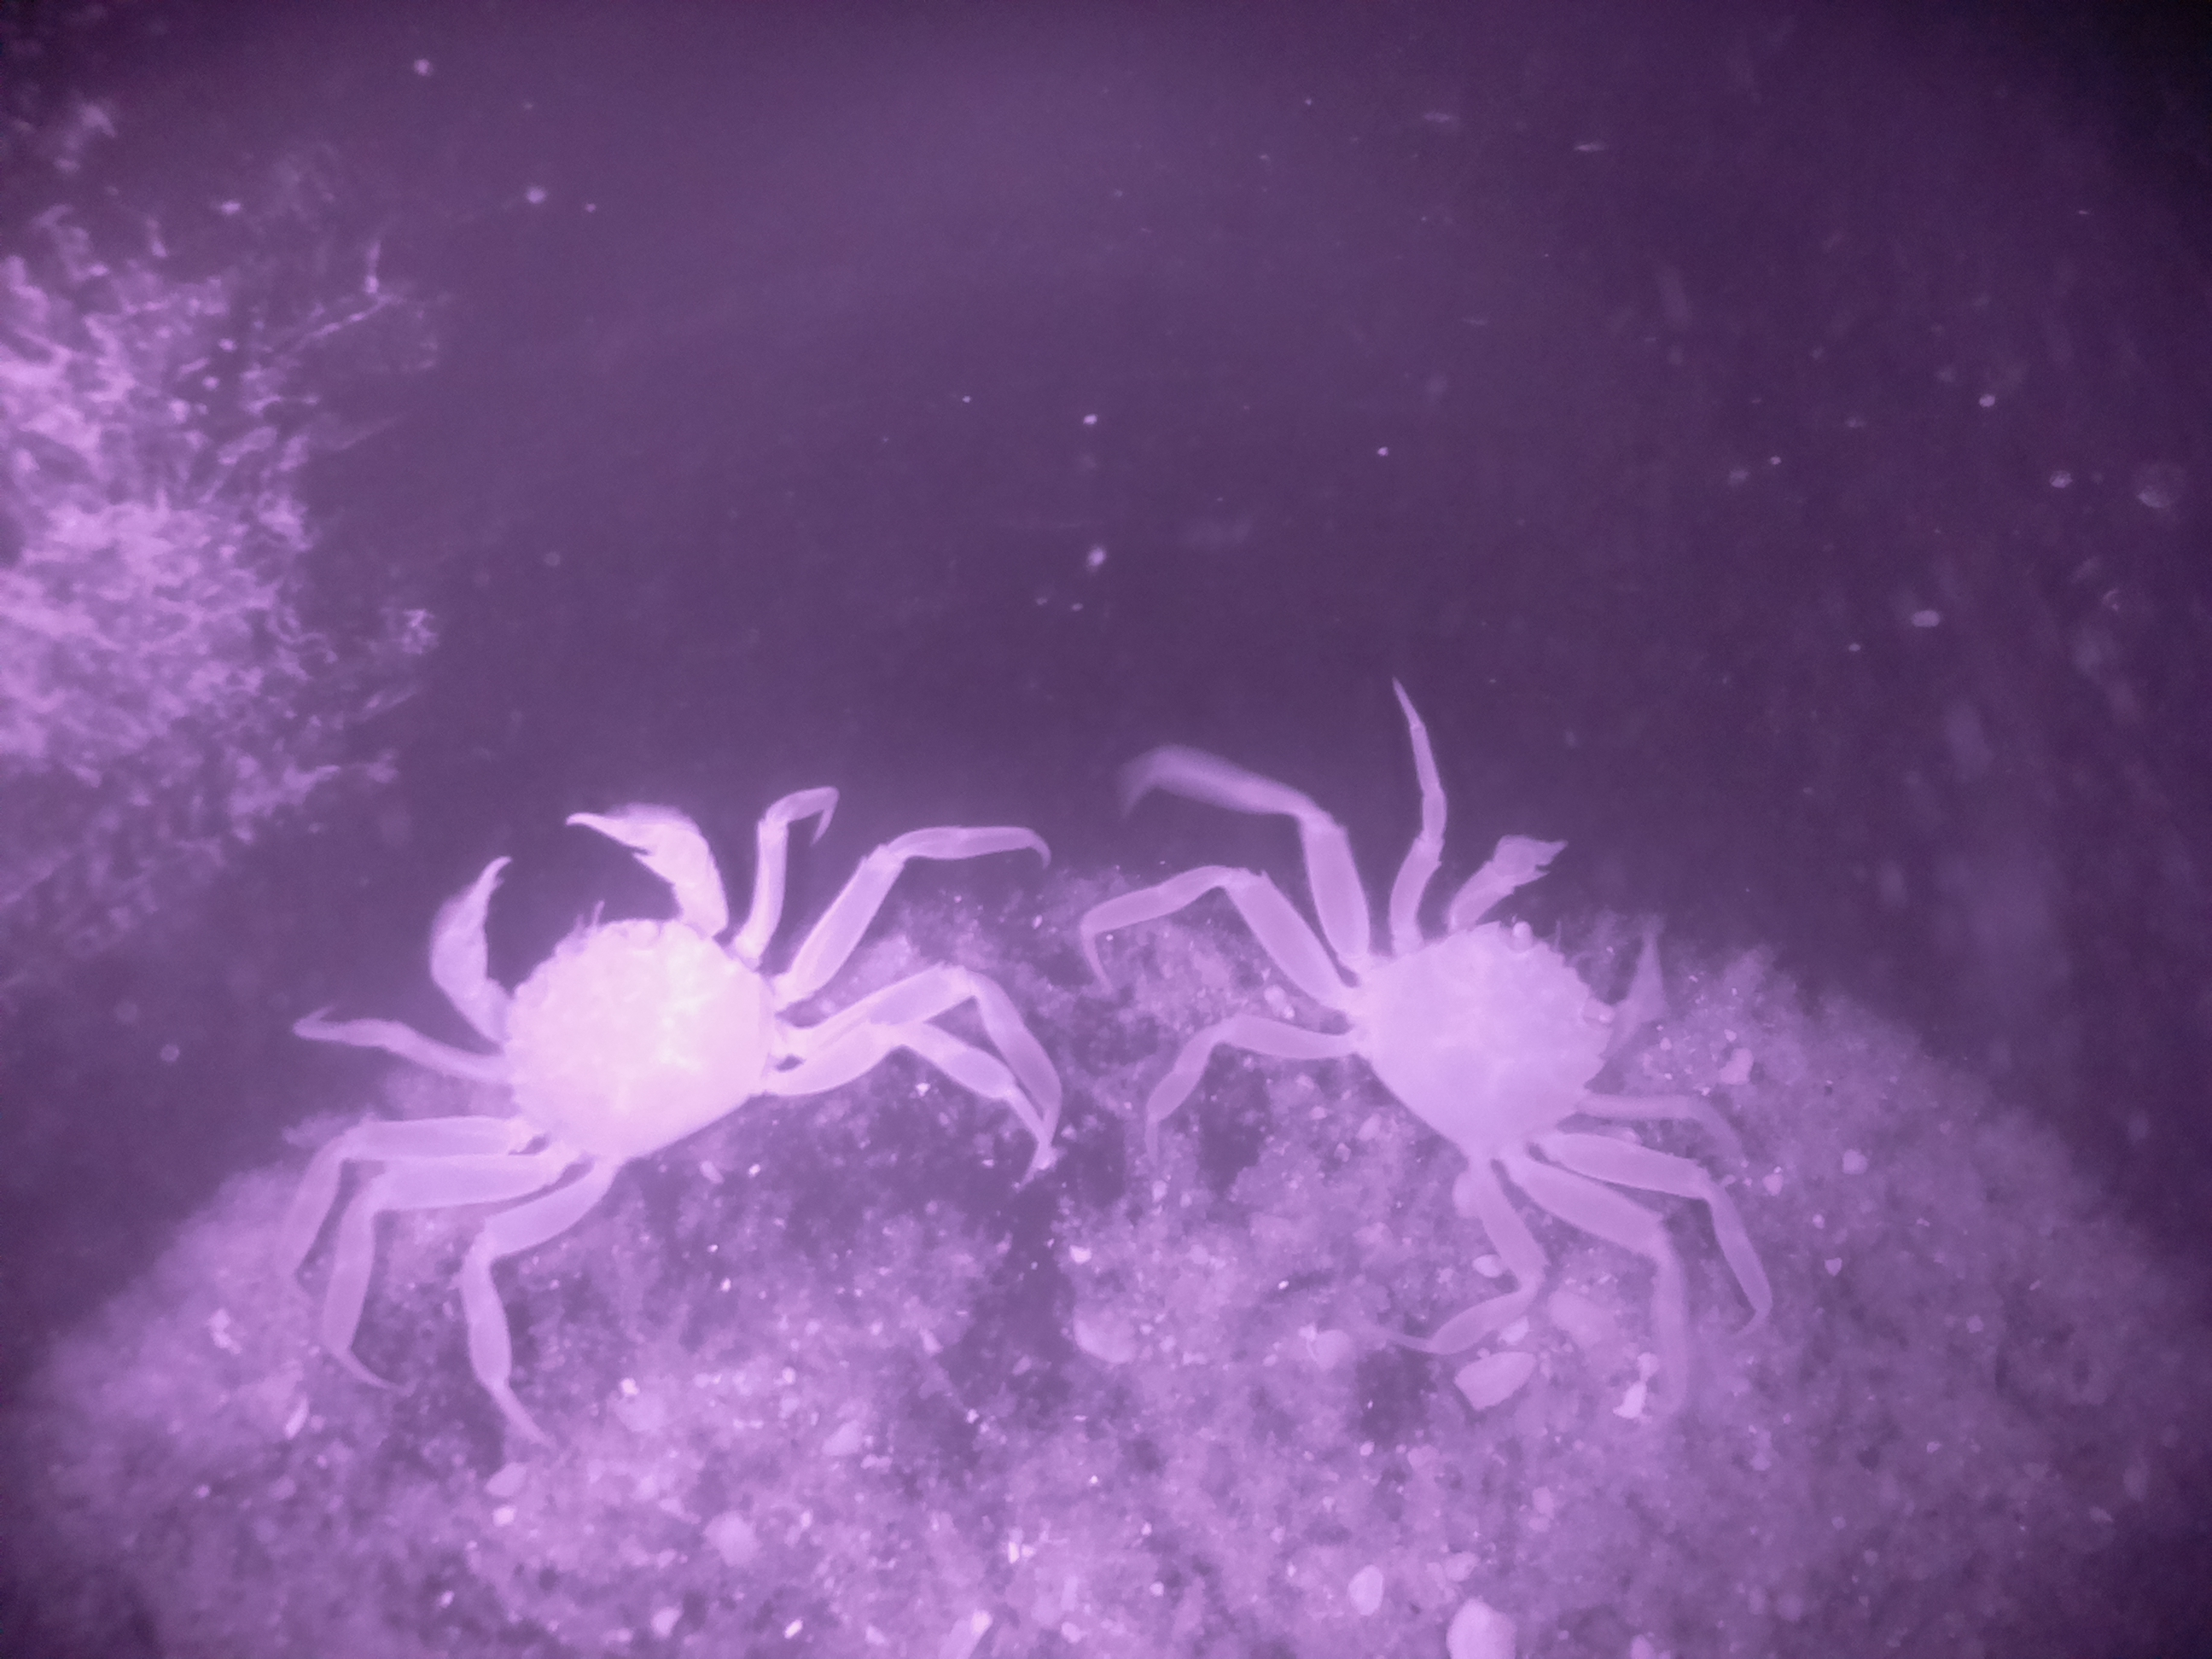Crab: (319, 777, 946, 1270), (1266, 742, 1721, 1260)
